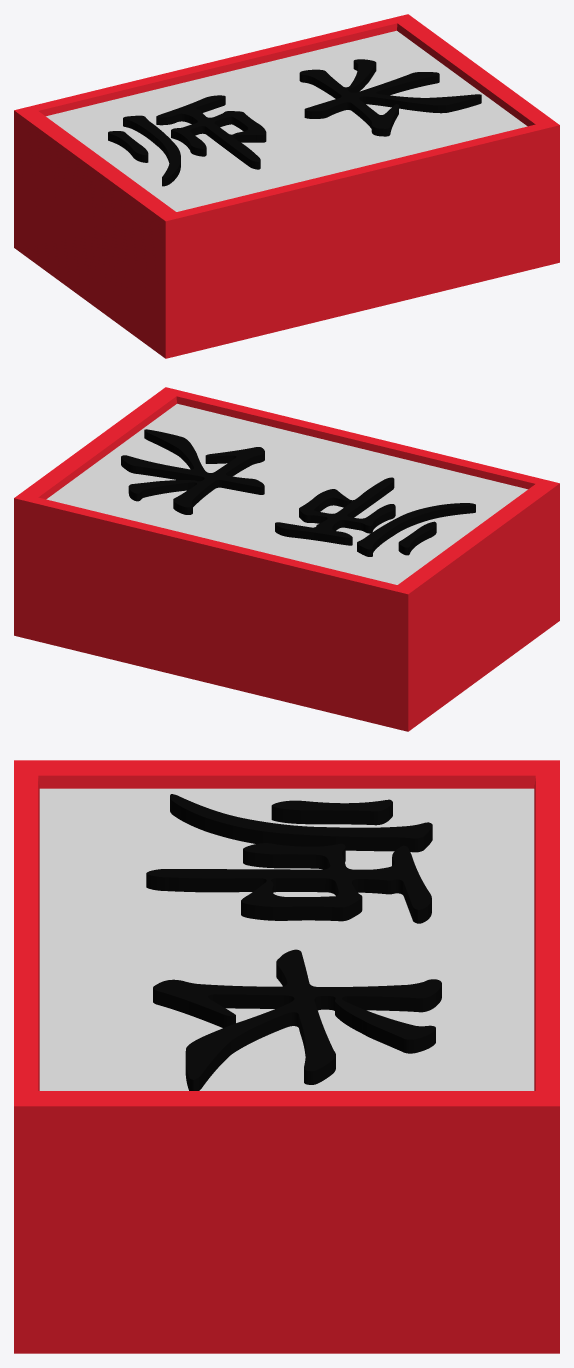
The model's file is 3_shi_zhang.fbx.
The picture shows the model from 3 angles, top to bottom: view 1: azimuth 30°, elevation 25°; view 2: azimuth 150°, elevation 25°; view 3: azimuth 270°, elevation 25°; orthographic projection. The views are drawn at different scales.
Parts seen in each view (by area): view 1: Cube, 文本; view 2: Cube, 文本; view 3: Cube, 文本.
Part boxes in pixels (bbox=[...]): Cube: bbox=[14, 14, 559, 358]; 文本: bbox=[108, 59, 481, 186]; Cube: bbox=[14, 387, 559, 731]; 文本: bbox=[121, 429, 475, 556]; Cube: bbox=[14, 760, 559, 1353]; 文本: bbox=[146, 794, 441, 1090].
Bounding box in the file's own units: 240 × 80.47 × 160.
